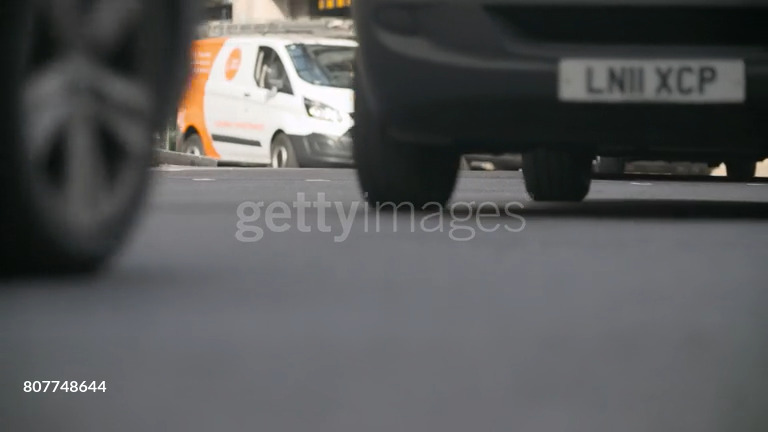car number: (553, 57, 744, 102)
